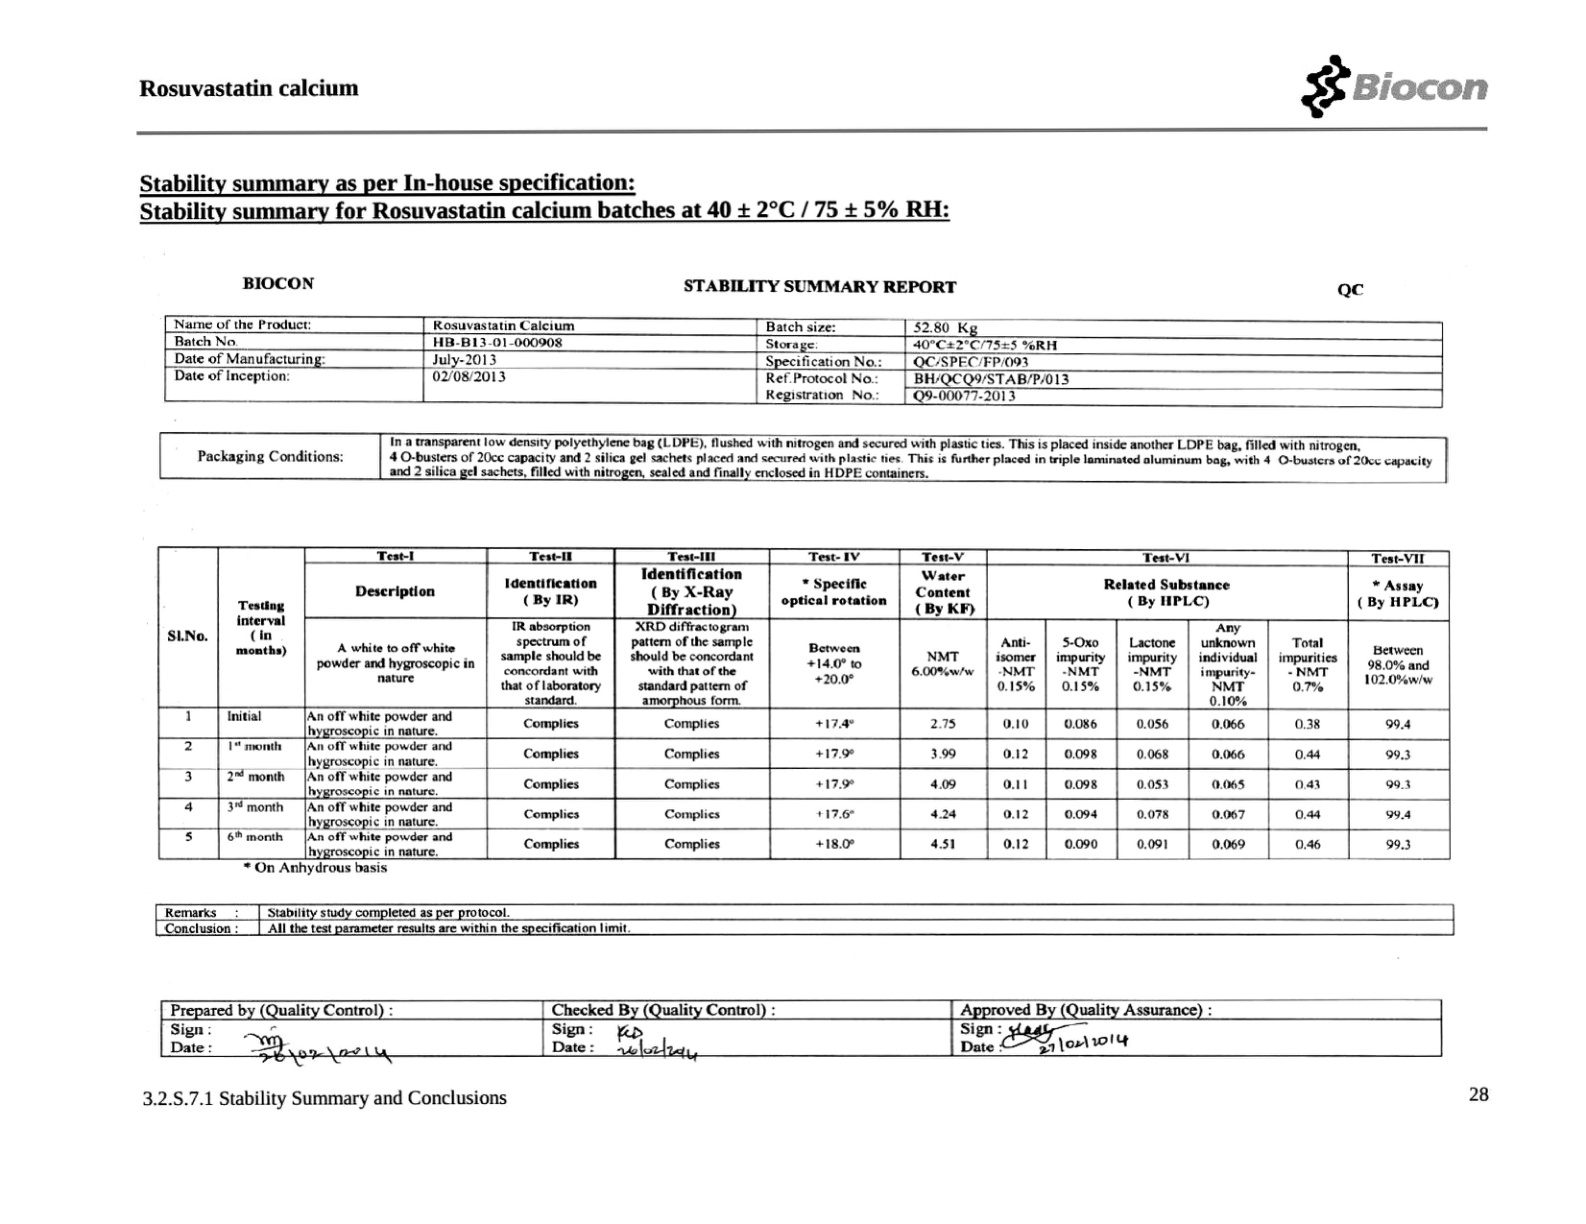full_lined: (163, 312, 1445, 410), (159, 996, 1443, 1058), (158, 431, 1448, 485), (153, 903, 1456, 936)
merged_cells: (156, 544, 1452, 861)
